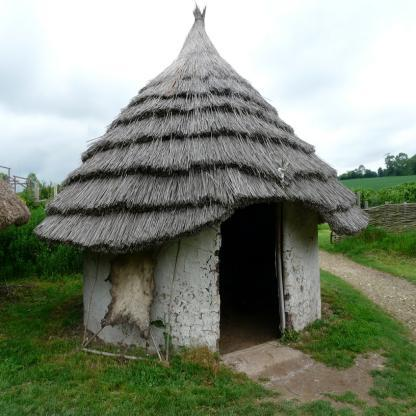Building Outline: (32, 0, 373, 358)
Dont: (80, 240, 183, 368)
Door: (219, 202, 287, 356)
Facade: (84, 158, 318, 320)
Ground Floor: (83, 212, 321, 358)
Roof: (32, 0, 373, 256)
